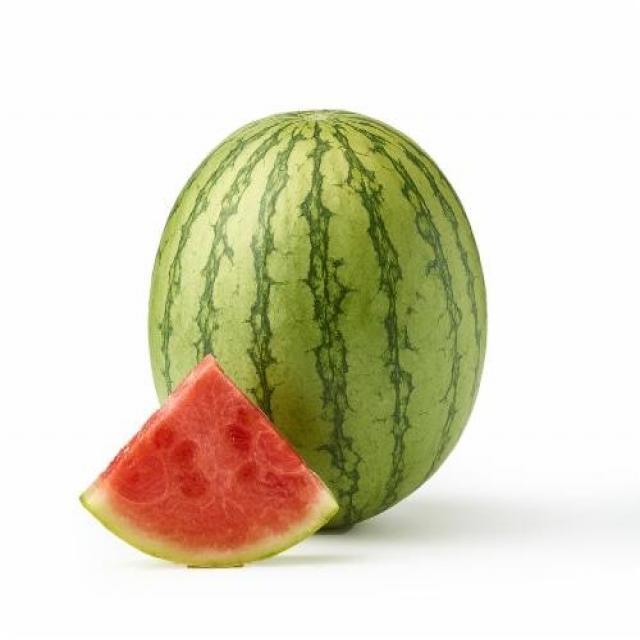watermelon: (148, 104, 496, 544), (88, 350, 339, 573)
